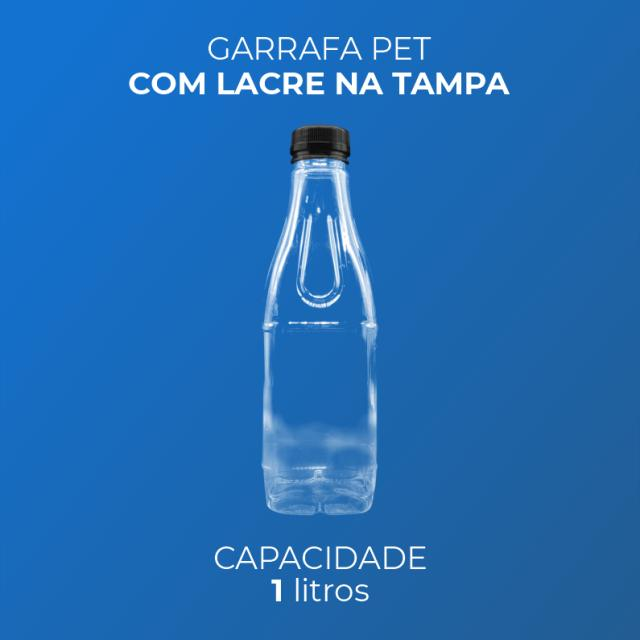bottom: (252, 468, 406, 524)
cap: (275, 118, 367, 185)
